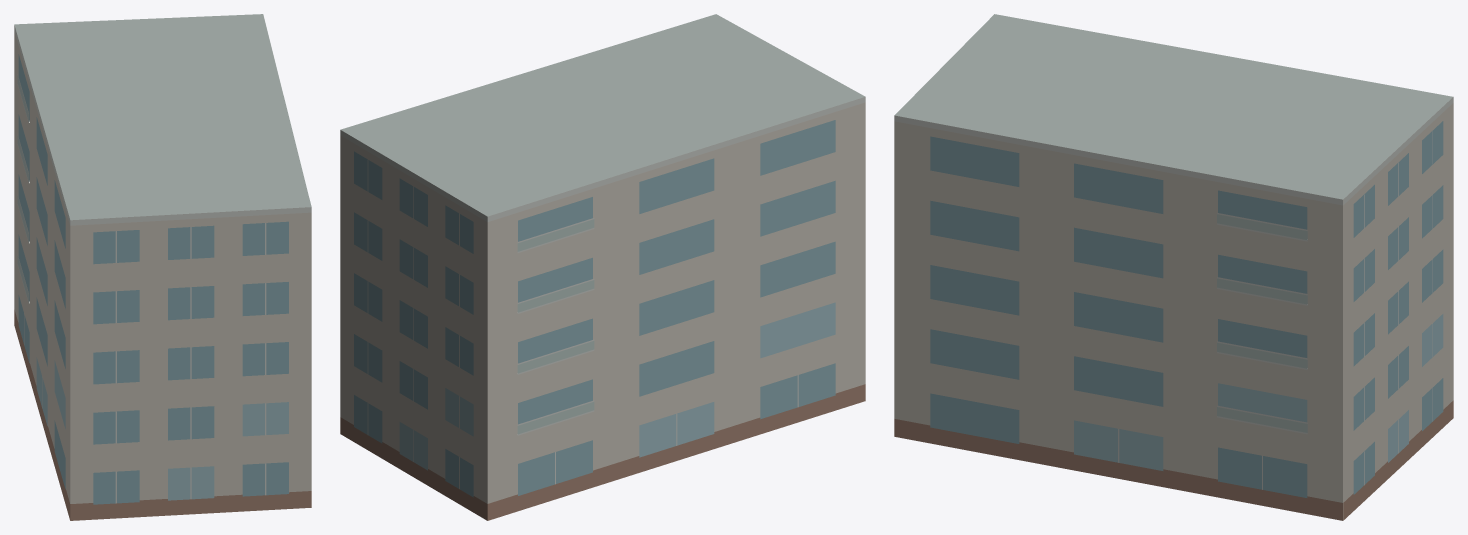
File: survey-upis-32533322.glb
The picture shows the model from 3 angles, left to right: view 1: azimuth 30°, elevation 25°; view 2: azimuth 150°, elevation 25°; view 3: azimuth 270°, elevation 25°; orthographic projection. The views are drawn at different scales.
Parts seen in each view (by area): view 1: survey-upis-32533322.tmp; view 2: survey-upis-32533322.tmp; view 3: survey-upis-32533322.tmp.
Boxes of the visible parts, x1,y1,x2,y2 form: survey-upis-32533322.tmp: [14, 14, 311, 520]; survey-upis-32533322.tmp: [340, 14, 865, 520]; survey-upis-32533322.tmp: [894, 14, 1453, 520].
Size of the model in its own units: 16.49 by 13.3 by 20.99.
